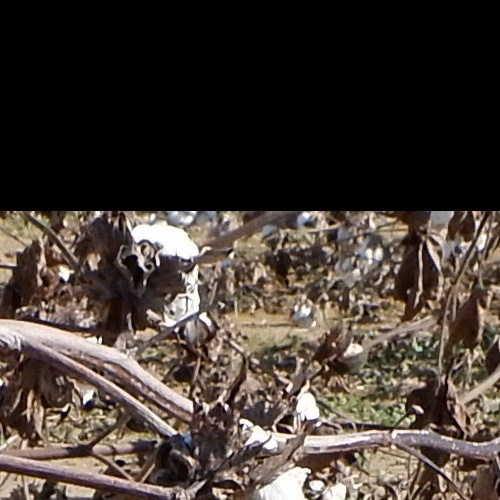immature_boll: (174, 371, 340, 500)
mature_boll: (130, 213, 208, 286)
